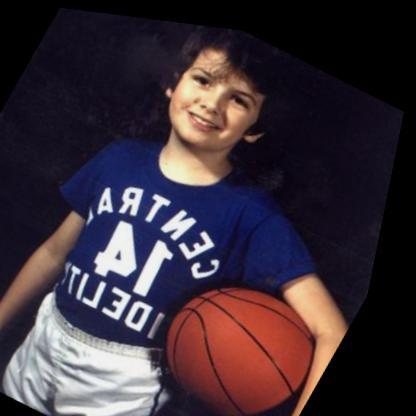basketball: (152, 254, 351, 416)
